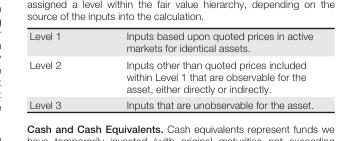table: (28, 29, 313, 110)
table column: (93, 29, 313, 110), (28, 29, 93, 110)
table row: (28, 55, 313, 96), (28, 29, 313, 55), (28, 96, 313, 110)
